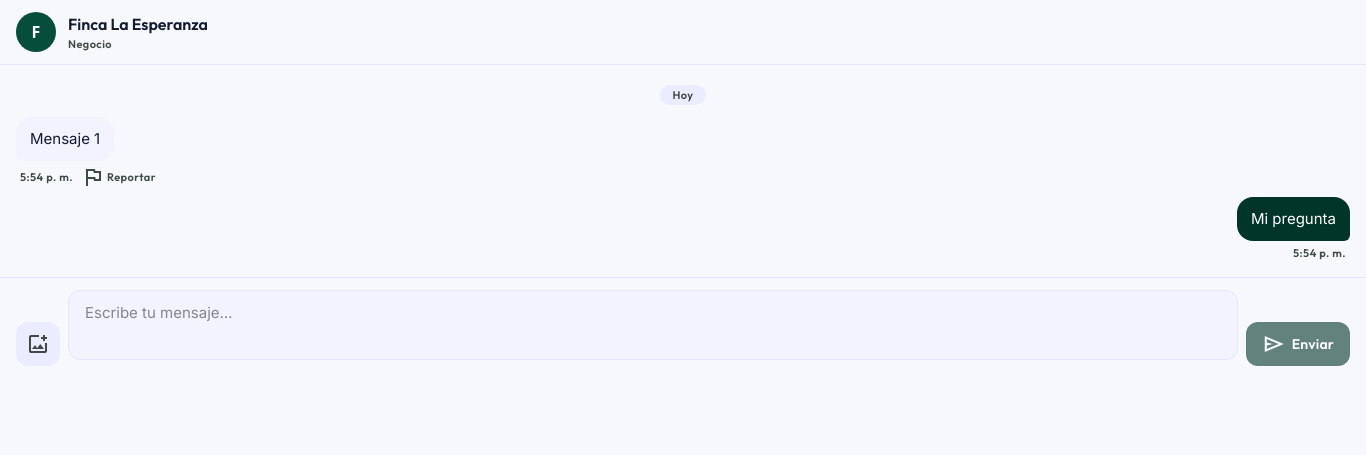
Test case: HiloConversacion › enviar agrega el mensaje al hilo y limpia la caja
Expected: the text "Mensaje 1" is shown, [30,127,100,151]
Type "¿Hay parqueadero?" into the text box labelled "Escribe tu mensaje" at [653, 325], box [68,290,1238,360]
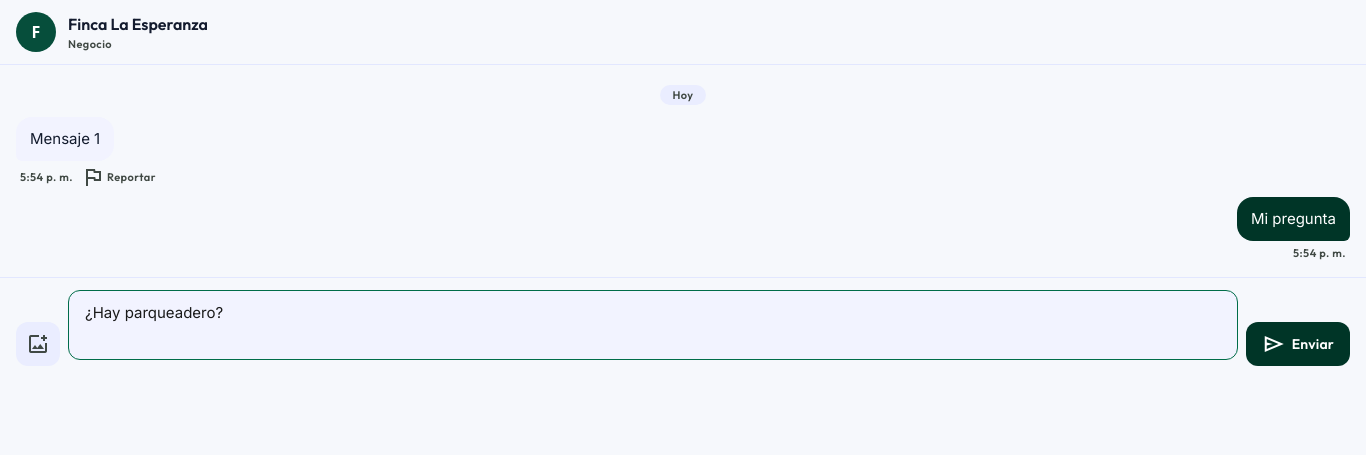
Click the button "Enviar" at [1298, 344], box [1246,322,1350,366]
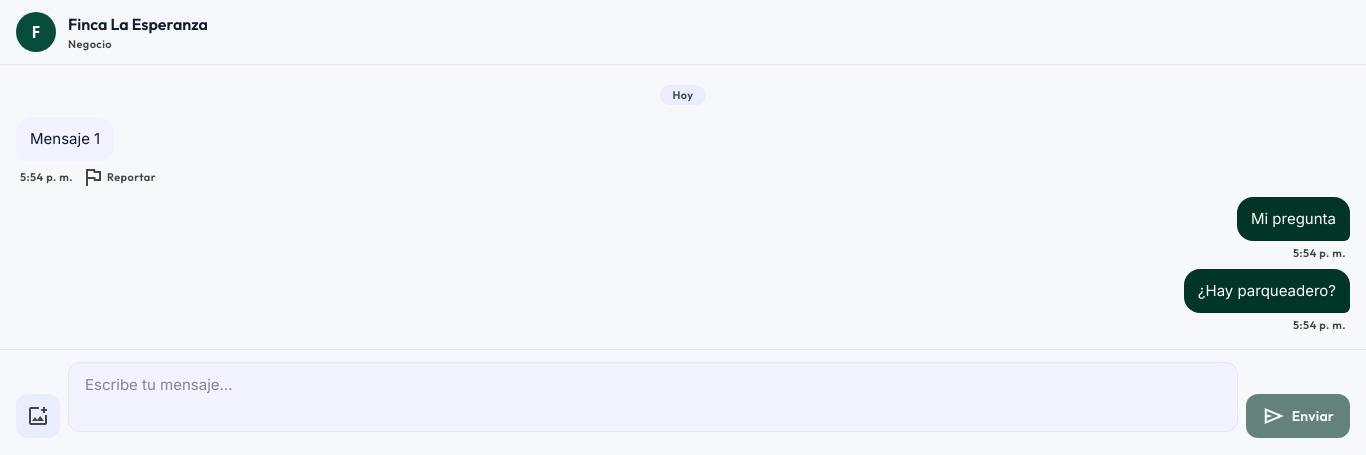
Expected: the text "¿Hay parqueadero?" is shown, [1198,279,1336,303]
Expected: the text box labelled "Escribe tu mensaje" is empty, [68,362,1238,432]
